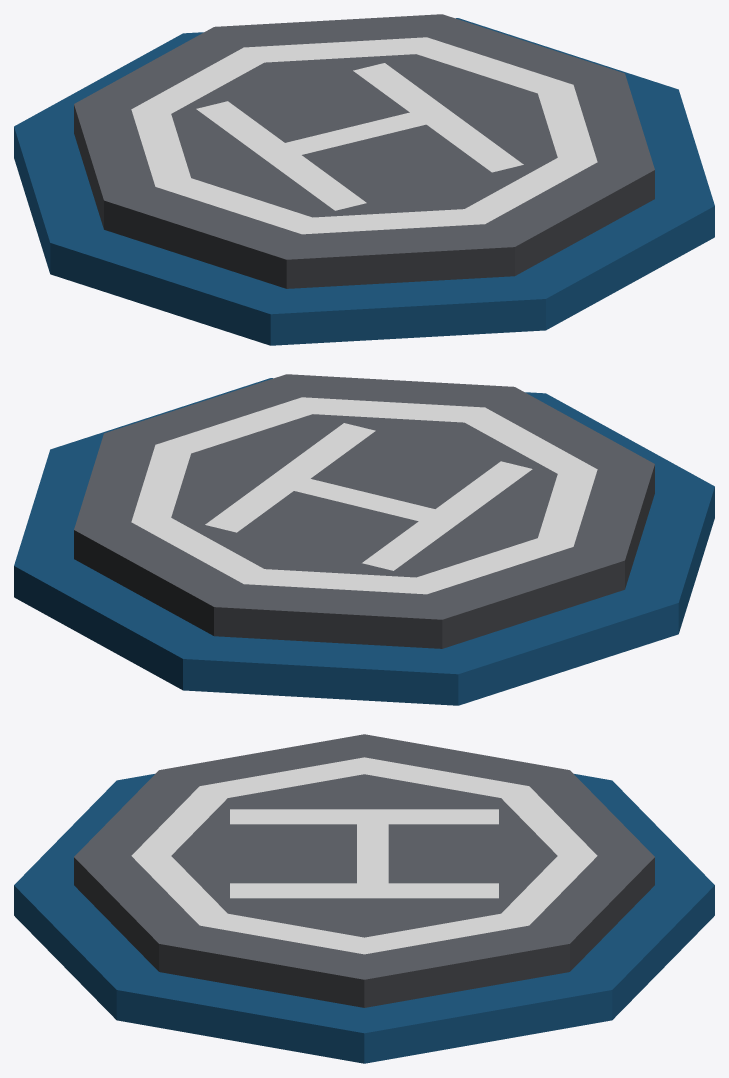
The model's file is tingjiping_001.FBX.
The picture shows the model from 3 angles, top to bottom: view 1: azimuth 30°, elevation 25°; view 2: azimuth 150°, elevation 25°; view 3: azimuth 270°, elevation 25°; orthographic projection. The views are drawn at different scales.
Visible parts, largest first — view 1: tingjiping_001; view 2: tingjiping_001; view 3: tingjiping_001.
Part boxes in pixels (x1=…): tingjiping_001: x1=14, y1=14, x2=714, y2=345; tingjiping_001: x1=14, y1=374, x2=714, y2=705; tingjiping_001: x1=14, y1=734, x2=714, y2=1063.
Size of the model in its own units: 518 by 48.7 by 518.
